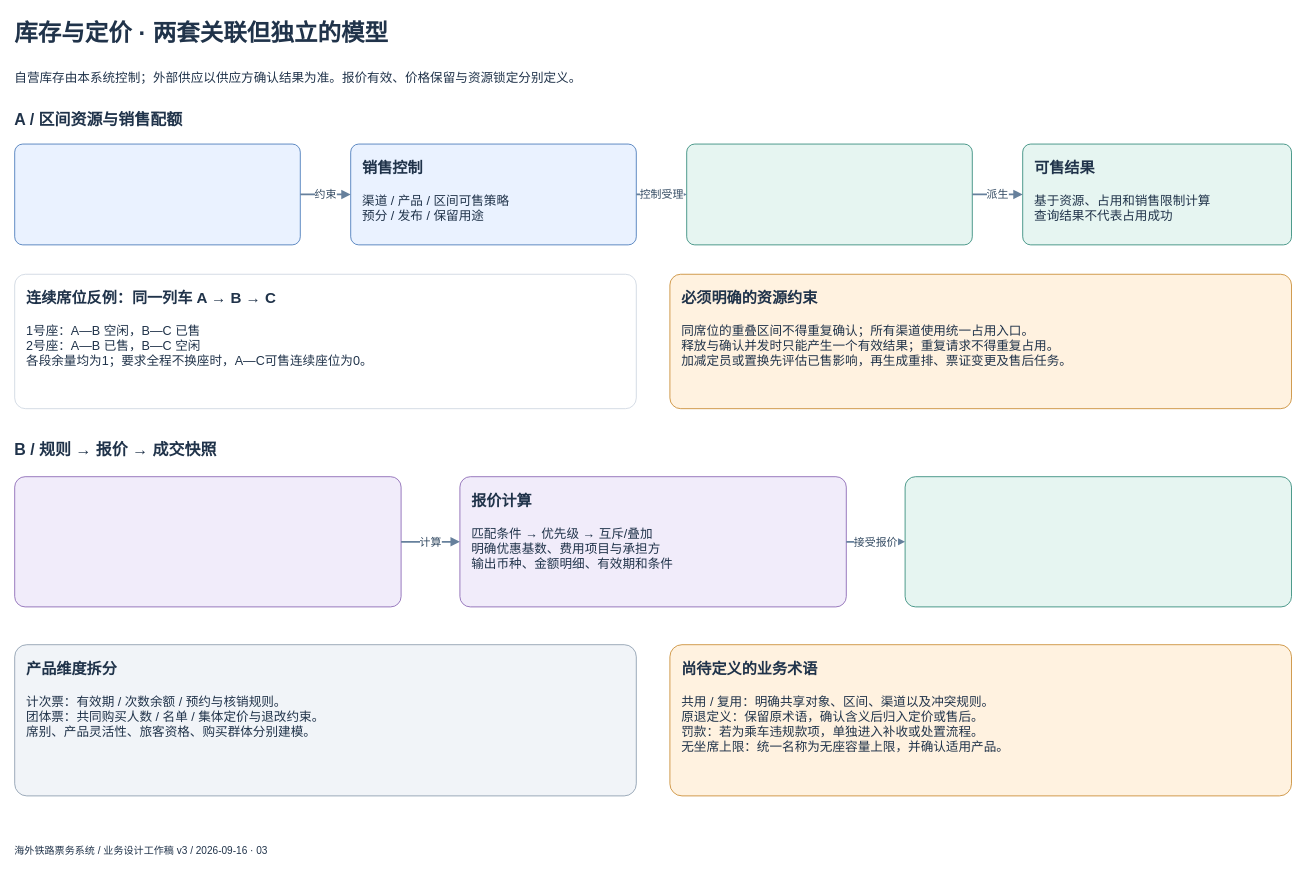
Some shapes in this 1306 by 875 pixel diagram are drawn without their labels. Here are the shapes that lost their labels. From the top down, the box of each, then its label:
(14, 143, 300, 245): 物理资源 运行实例 + 编组版本 席位或容量池 + 可用区间
(686, 143, 972, 245): 占用记录 临时占用 → 确认或释放 记录关联预订与到期时间
(14, 476, 401, 607): 定价规则集 基础：里程 / 区间 / 产品价（按需） 动态：时间 / 余量策略（按需） 优惠：身份资格 / 活动 / 渠道补贴
(904, 476, 1292, 607): 成交快照 保留旅客接受的金额与规则版本 含退改条件及费用、优惠分摊 后续规则变更不静默重算历史成交
